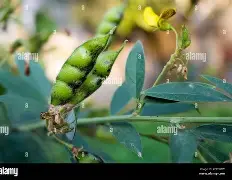crops: (0, 0, 228, 164)
